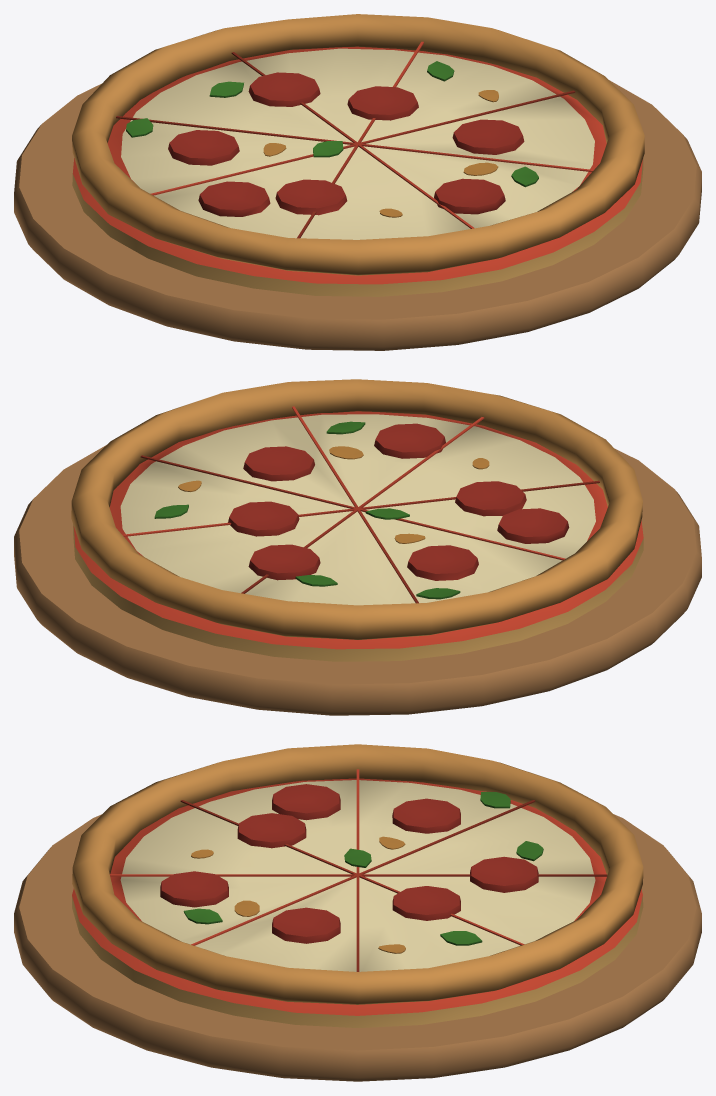
The model's file is pizza.glb.
3 renders of one model, top to bottom at view 1: azimuth 30°, elevation 25°; view 2: azimuth 150°, elevation 25°; view 3: azimuth 270°, elevation 25°, orthographic.
Parts seen in each view (by area): view 1: pizza; view 2: pizza; view 3: pizza.
Part boxes in pixels (bbox=[...]): pizza: bbox=[14, 14, 701, 350]; pizza: bbox=[14, 379, 701, 715]; pizza: bbox=[14, 744, 701, 1081].
Size of the model in its own units: 0.4 by 0.052 by 0.4.
